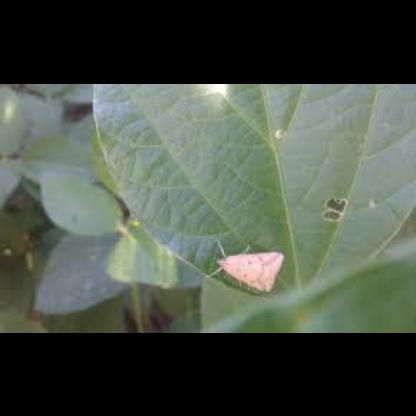agujero: (321, 189, 355, 221)
